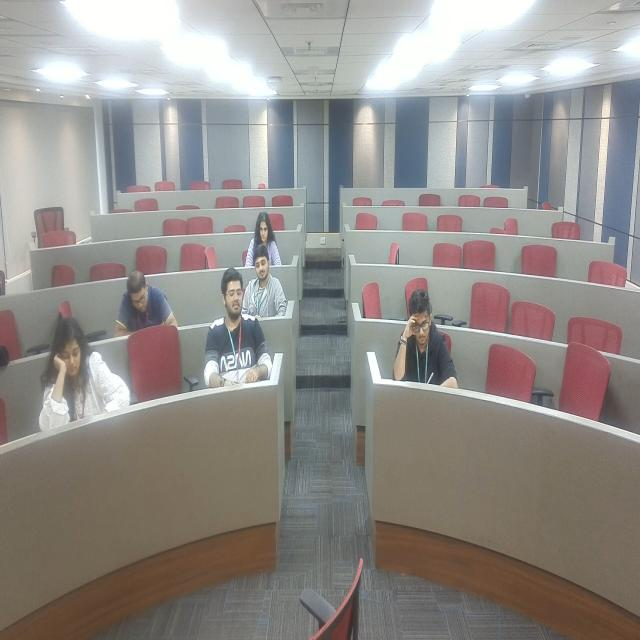non-cheating: (38, 287, 124, 473), (395, 264, 460, 432), (128, 261, 181, 362), (243, 242, 284, 319), (246, 197, 280, 254)
